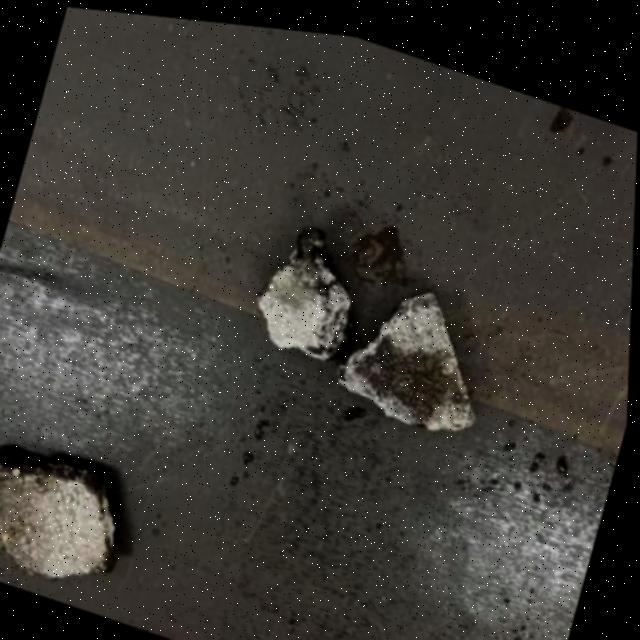Road Debris: (357, 323, 477, 416), (0, 433, 68, 561), (279, 202, 345, 292)
